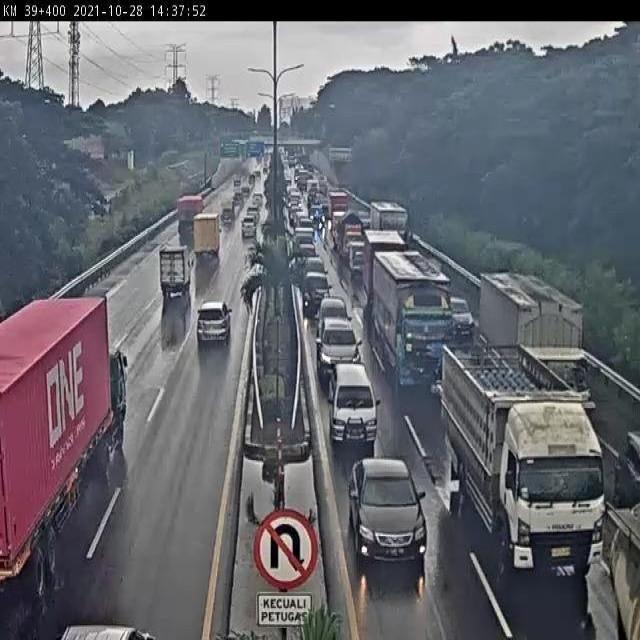car: (156, 242, 189, 294)
truck-l-: (444, 334, 605, 574), (480, 273, 592, 423), (372, 249, 455, 387), (175, 192, 204, 232)
truck-s-: (193, 209, 222, 259)
